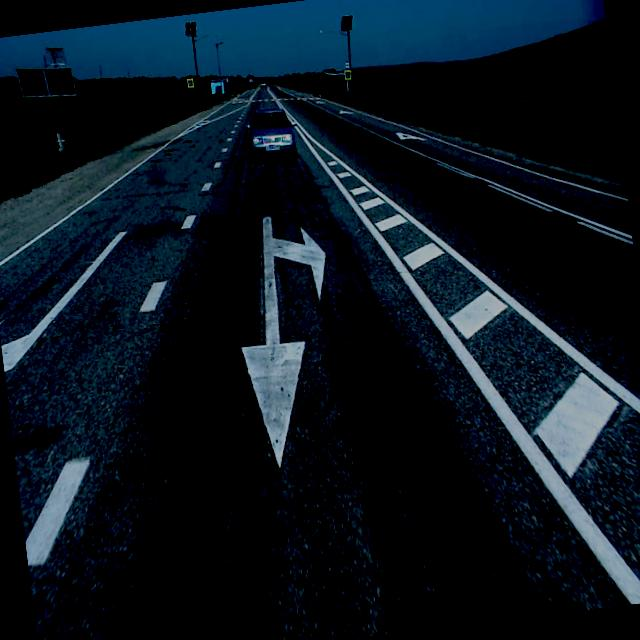road: (0, 83, 640, 640)
